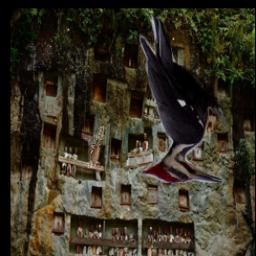Cuckoo: (87, 126, 103, 168)
Woodpecker: (139, 16, 225, 184)
